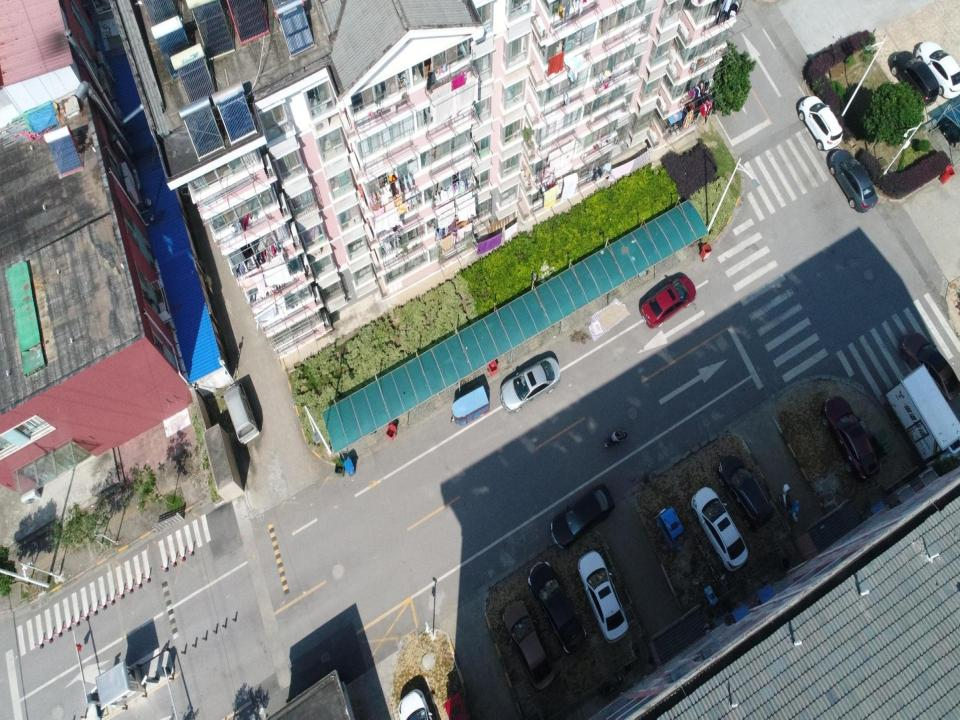car: (527, 560, 587, 656), (822, 395, 881, 480), (690, 486, 748, 572), (577, 550, 630, 644), (502, 598, 555, 691), (716, 454, 773, 532), (899, 330, 959, 403), (549, 486, 615, 549), (499, 354, 561, 413), (640, 273, 696, 329), (828, 150, 878, 212), (888, 51, 940, 104), (915, 40, 959, 99), (798, 94, 843, 150)
van: (224, 382, 260, 446)
